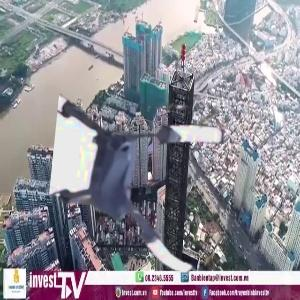drone: (51, 101, 230, 280)
